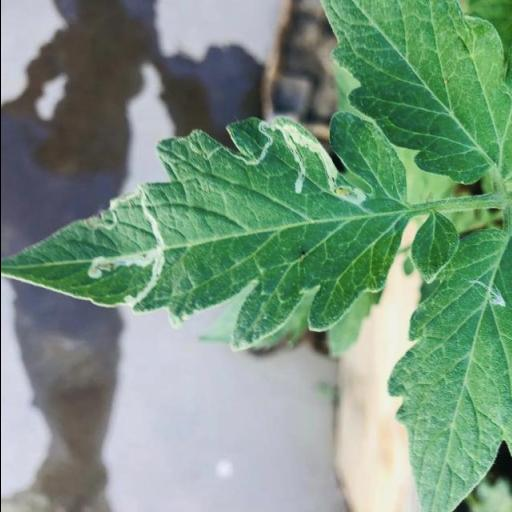Healthy: (314, 0, 512, 184)
Leaf Miner: (0, 110, 409, 352)
